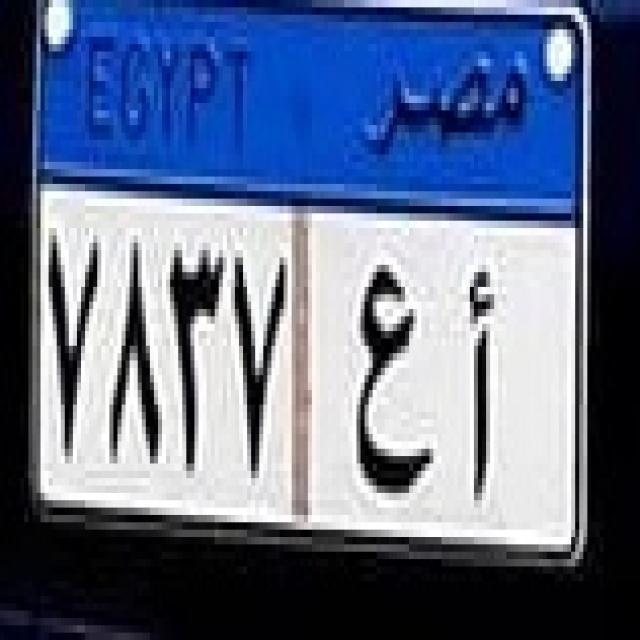3: (168, 238, 231, 464)
7: (40, 233, 105, 451), (232, 256, 296, 476)
8: (108, 237, 164, 467)
Een: (346, 274, 434, 497)
alef: (455, 252, 518, 508)
